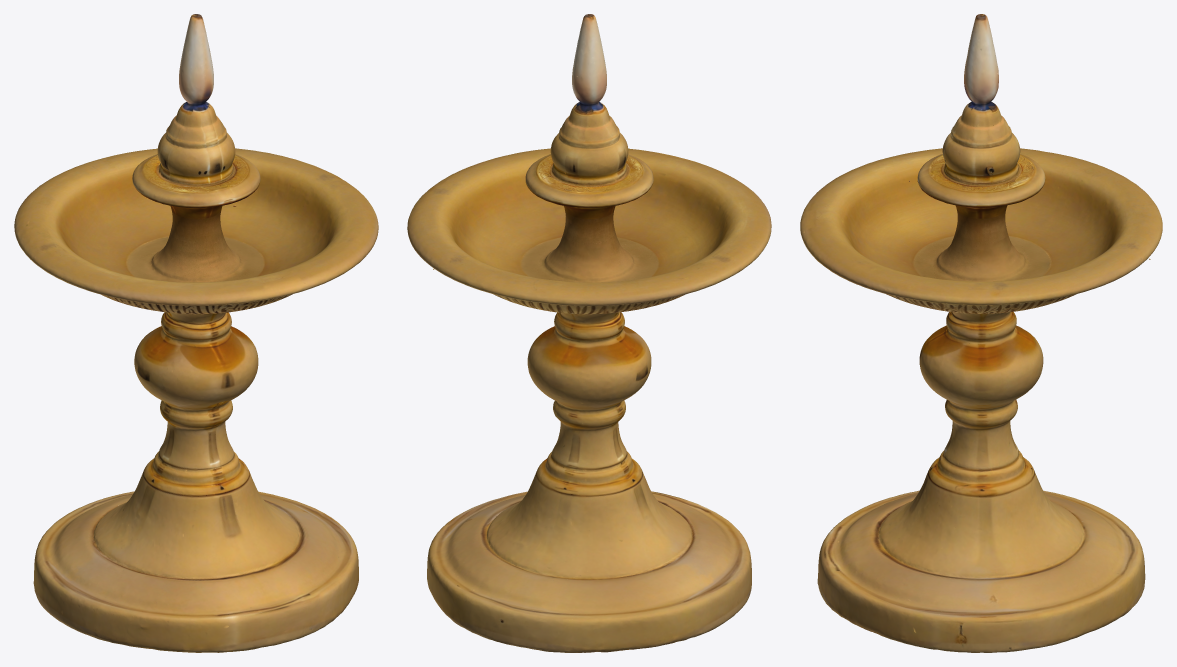
Rendered from golden_oil_lamp.glb.
3 renders of one model, left to right at view 1: azimuth 30°, elevation 25°; view 2: azimuth 150°, elevation 25°; view 3: azimuth 270°, elevation 25°, orthographic.
Parts seen in each view (by area): view 1: Object_4, Object_5, Object_6; view 2: Object_4, Object_5, Object_6; view 3: Object_4, Object_5, Object_6.
Part boxes in pixels (x1,y1,x2,y2): Object_4: [16, 14, 378, 652]; Object_5: [14, 16, 371, 607]; Object_6: [58, 142, 378, 652]; Object_4: [414, 14, 771, 651]; Object_5: [407, 14, 758, 652]; Object_6: [468, 148, 771, 592]; Object_4: [800, 14, 1162, 652]; Object_5: [909, 16, 1161, 652]; Object_6: [825, 136, 953, 651].
Bounding box in the file's own units: 1.1 × 1.9 × 1.1.
1 material, 1 textured.
